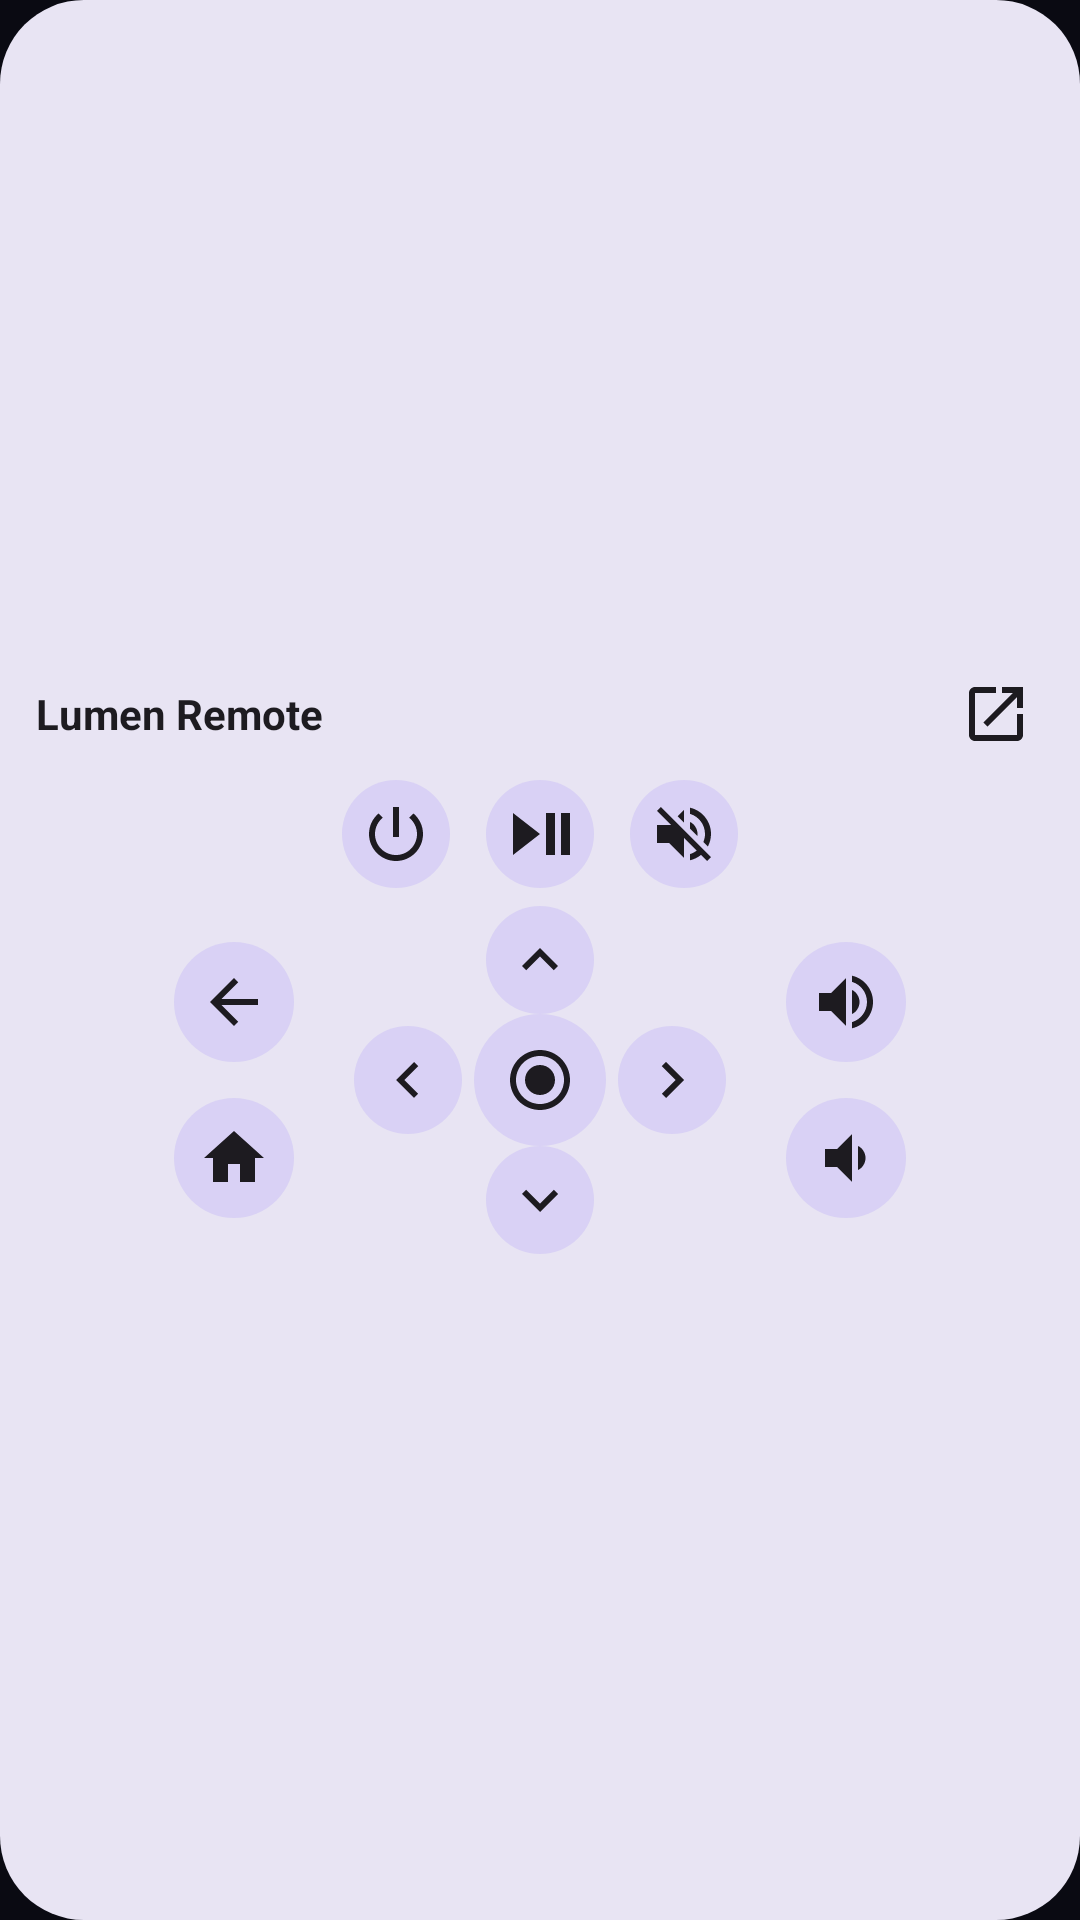

Icons on this 1080*1920 Android screen, each with its box as (x1, y1, x2, y2):
Back: (174, 942, 294, 1062)
Down: (486, 1146, 594, 1254)
Home: (204, 1131, 264, 1182)
Left: (354, 1026, 462, 1134)
Mute: (630, 780, 738, 888)
OK: (510, 1050, 570, 1110)
Play or pause: (513, 813, 570, 855)
Power: (342, 780, 450, 888)
Right: (618, 1026, 726, 1134)
Up: (486, 906, 594, 1014)
Volume down: (786, 1098, 906, 1218)
Volume up: (786, 942, 906, 1062)
